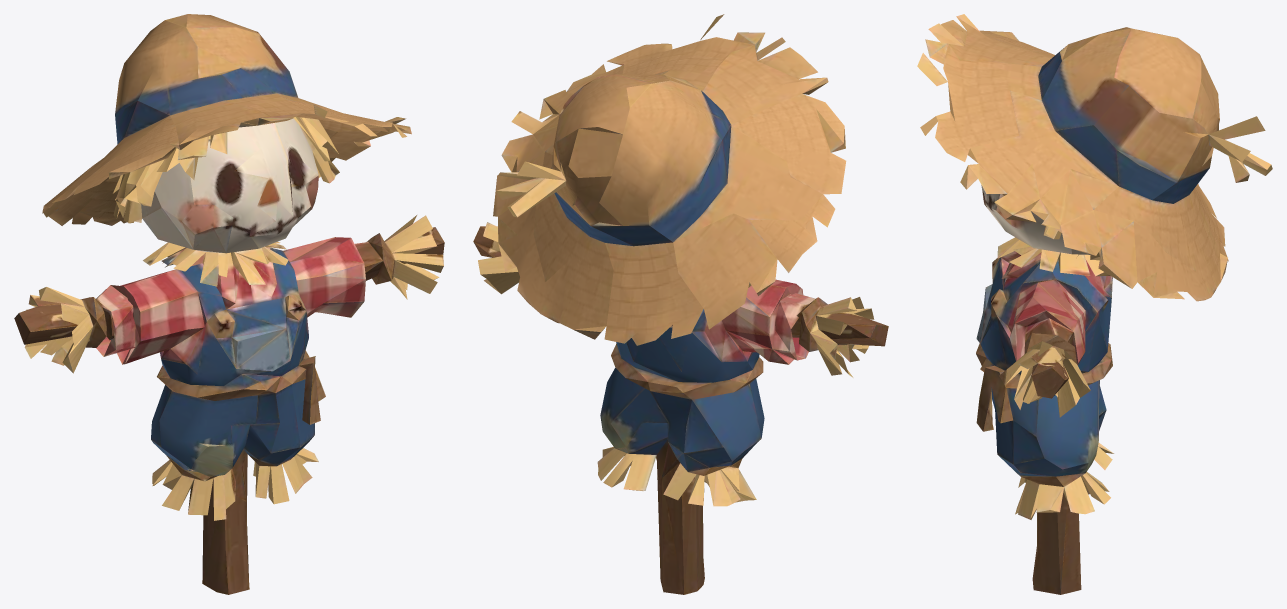
File: farm-scarecrow.glb
The picture shows the model from 3 angles, left to right: view 1: azimuth 30°, elevation 25°; view 2: azimuth 150°, elevation 25°; view 3: azimuth 270°, elevation 25°; orthographic projection. The views are drawn at different scales.
Visible parts, largest first — view 1: farm-scarecrow-fit; view 2: farm-scarecrow-fit; view 3: farm-scarecrow-fit.
Part boxes in pixels (x1=…): farm-scarecrow-fit: x1=14, y1=14, x2=444, y2=594; farm-scarecrow-fit: x1=473, y1=14, x2=888, y2=594; farm-scarecrow-fit: x1=917, y1=14, x2=1272, y2=594.
Size of the model in its own units: 1.61 by 2 by 1.16.
Materials: 1 (1 with a texture image).
